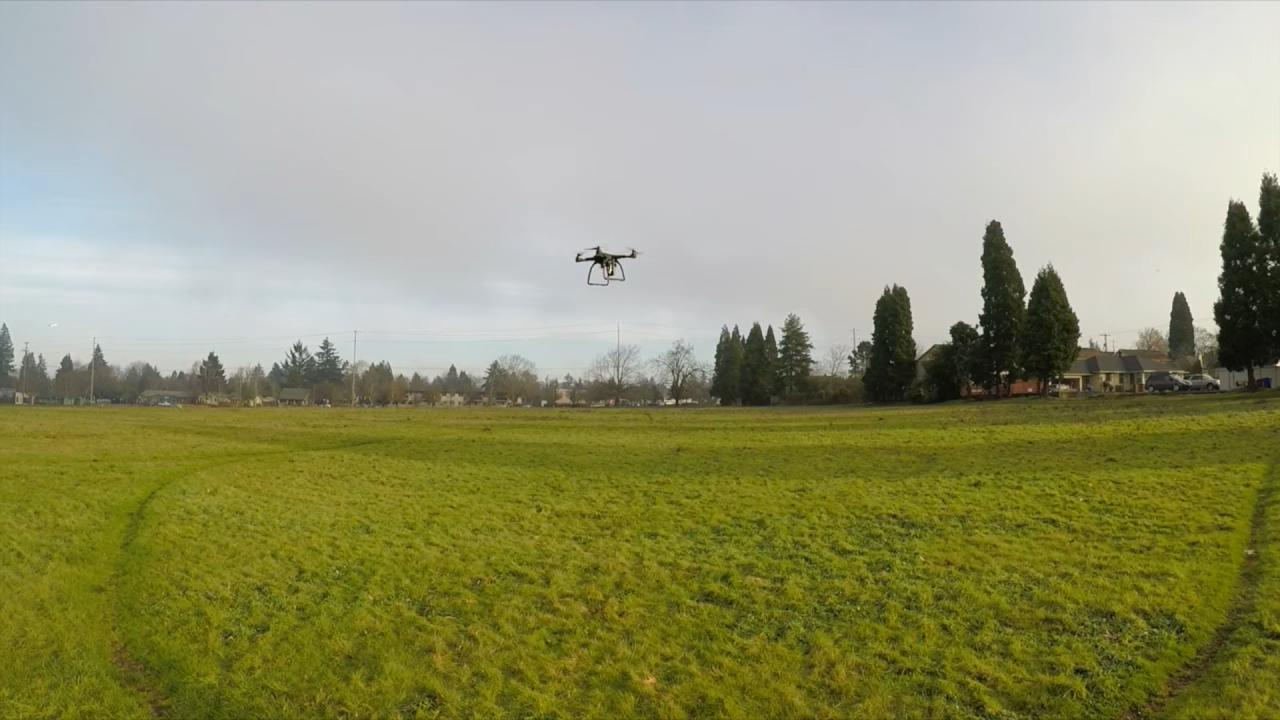Drone: (564, 241, 650, 294)
